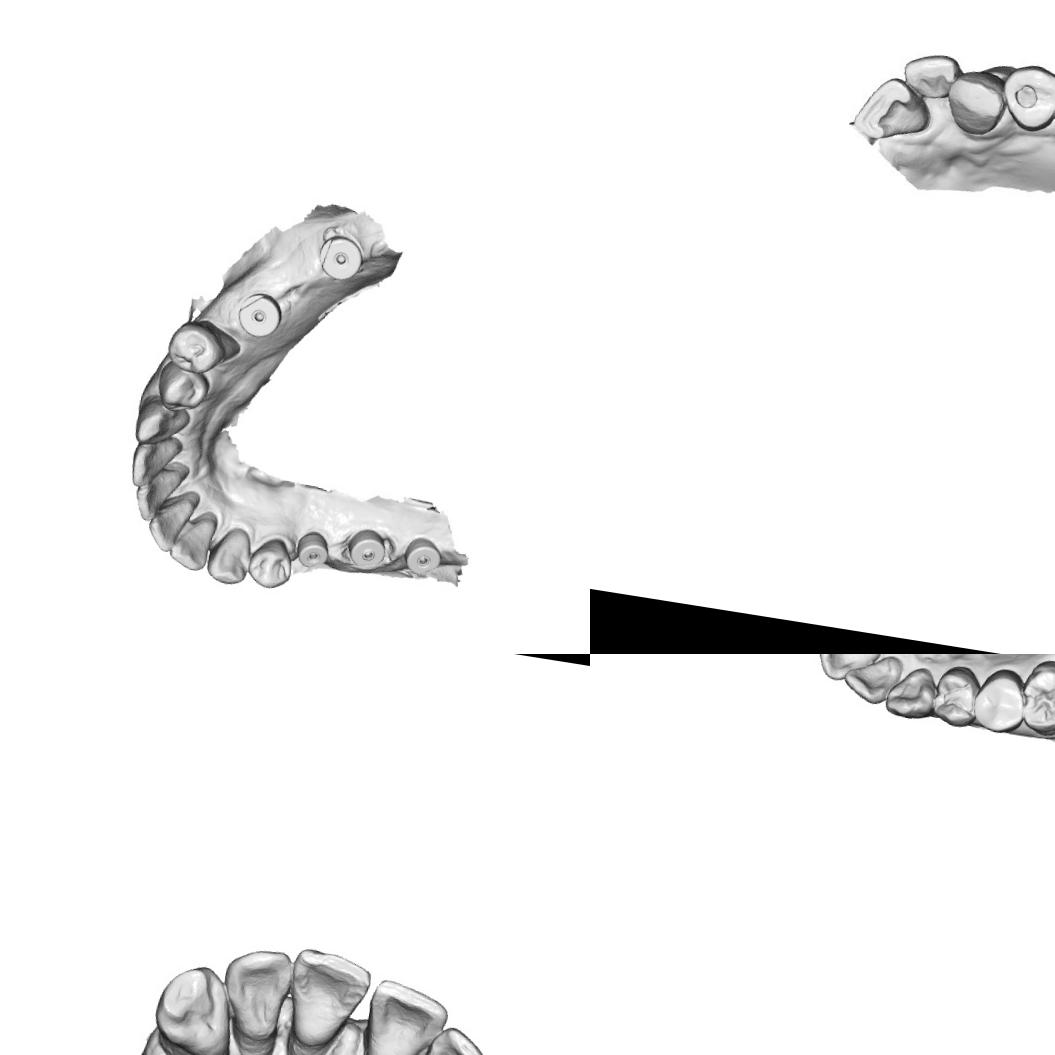canine: (149, 959, 240, 1055), (944, 68, 1008, 140), (882, 660, 941, 723), (130, 395, 193, 452), (204, 522, 256, 588)
implant: (314, 232, 368, 287), (234, 290, 284, 340), (342, 524, 391, 574), (400, 532, 446, 580), (290, 527, 336, 574)
incisor: (281, 944, 374, 1050), (214, 944, 294, 1042), (357, 974, 452, 1055), (849, 69, 938, 150), (142, 490, 198, 558), (126, 432, 186, 494), (838, 654, 904, 709), (130, 463, 184, 526), (405, 1018, 495, 1055), (167, 511, 219, 575), (900, 50, 962, 99), (808, 654, 888, 687)
molar: (1015, 654, 1055, 740)
premolar: (968, 662, 1030, 737), (163, 316, 230, 378), (928, 661, 986, 732), (1002, 61, 1055, 136), (242, 532, 298, 594), (153, 360, 212, 416)
